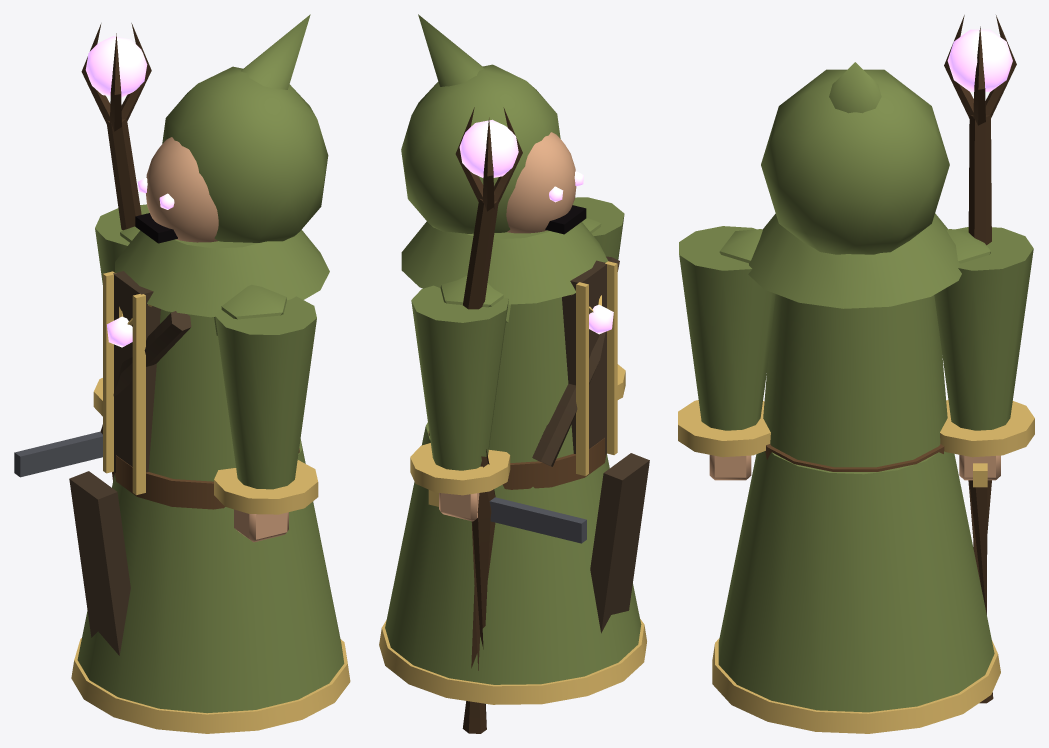
Rendered from m_cultist.glb.
3 renders of one model, left to right at view 1: azimuth 30°, elevation 25°; view 2: azimuth 150°, elevation 25°; view 3: azimuth 270°, elevation 25°, orthographic. The views are drawn at different scales.
Visible parts, largest first — view 1: robe, hood, body, armL, staff, head, sword, armR; view 2: robe, hood, body, armR, staff, head, sword, armL; view 3: robe, hood, body, armL, armR, staff.
Part boxes in pixels (bbox=[...]): robe: bbox=[69, 439, 350, 733]; hood: bbox=[115, 14, 329, 317]; body: bbox=[100, 226, 299, 509]; armL: bbox=[214, 296, 318, 542]; staff: bbox=[81, 23, 151, 480]; head: bbox=[135, 137, 218, 243]; sword: bbox=[14, 431, 102, 477]; armR: bbox=[93, 204, 149, 416]; robe: bbox=[379, 422, 649, 704]; hood: bbox=[401, 14, 607, 304]; body: bbox=[428, 216, 619, 489]; armR: bbox=[410, 285, 510, 521]; staff: bbox=[455, 107, 522, 733]; head: bbox=[506, 132, 586, 234]; sword: bbox=[428, 490, 586, 543]; armL: bbox=[572, 197, 625, 399]; robe: bbox=[712, 451, 1000, 733]; hood: bbox=[748, 62, 961, 308]; body: bbox=[719, 229, 990, 471]; armL: bbox=[678, 226, 775, 480]; armR: bbox=[934, 227, 1034, 480]; staff: bbox=[944, 15, 1016, 703].
Bounding box in the file's own units: 0.514 × 1.3 × 0.6003.
